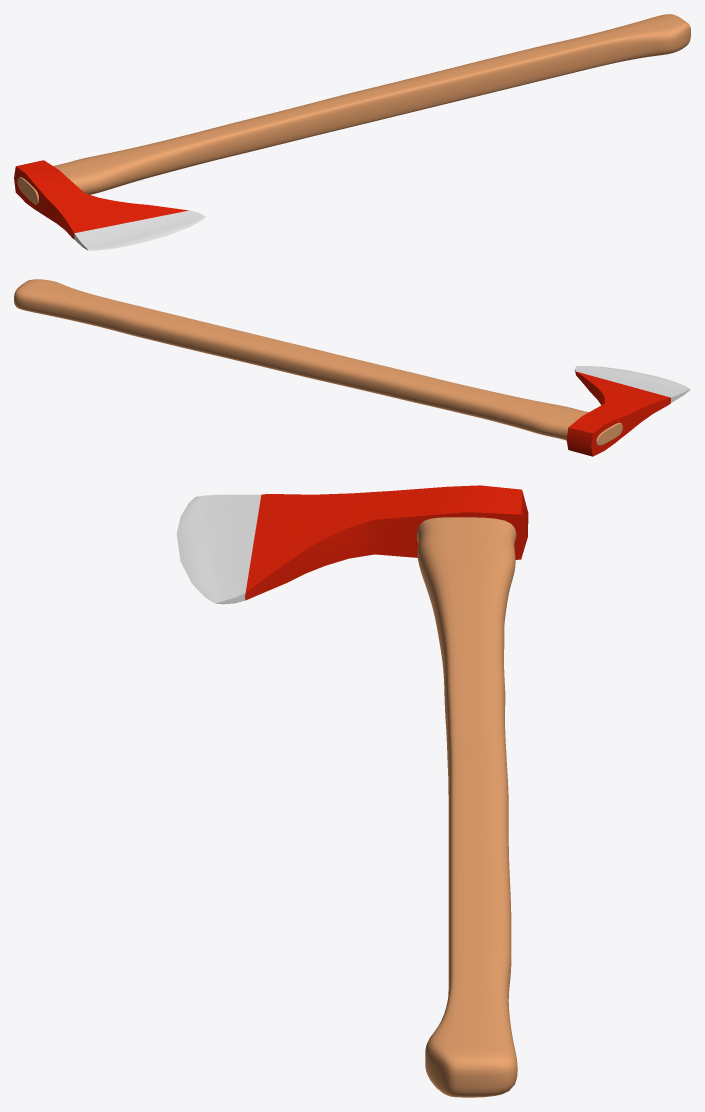
The model's file is axeExport-8.fbx.
3 views of the same model, one above another, from view 1: azimuth 30°, elevation 25°; view 2: azimuth 150°, elevation 25°; view 3: azimuth 270°, elevation 25° (orthographic). The views are drawn at different scales.
Parts seen in each view (by area): view 1: Handle.007; view 2: Handle.007; view 3: Handle.007.
Part boxes in pixels (x1=…): Handle.007: x1=14, y1=14, x2=690, y2=250; Handle.007: x1=14, y1=279, x2=690, y2=456; Handle.007: x1=176, y1=485, x2=528, y2=1097.
Size of the model in its own units: 2020 by 84.02 by 511.
